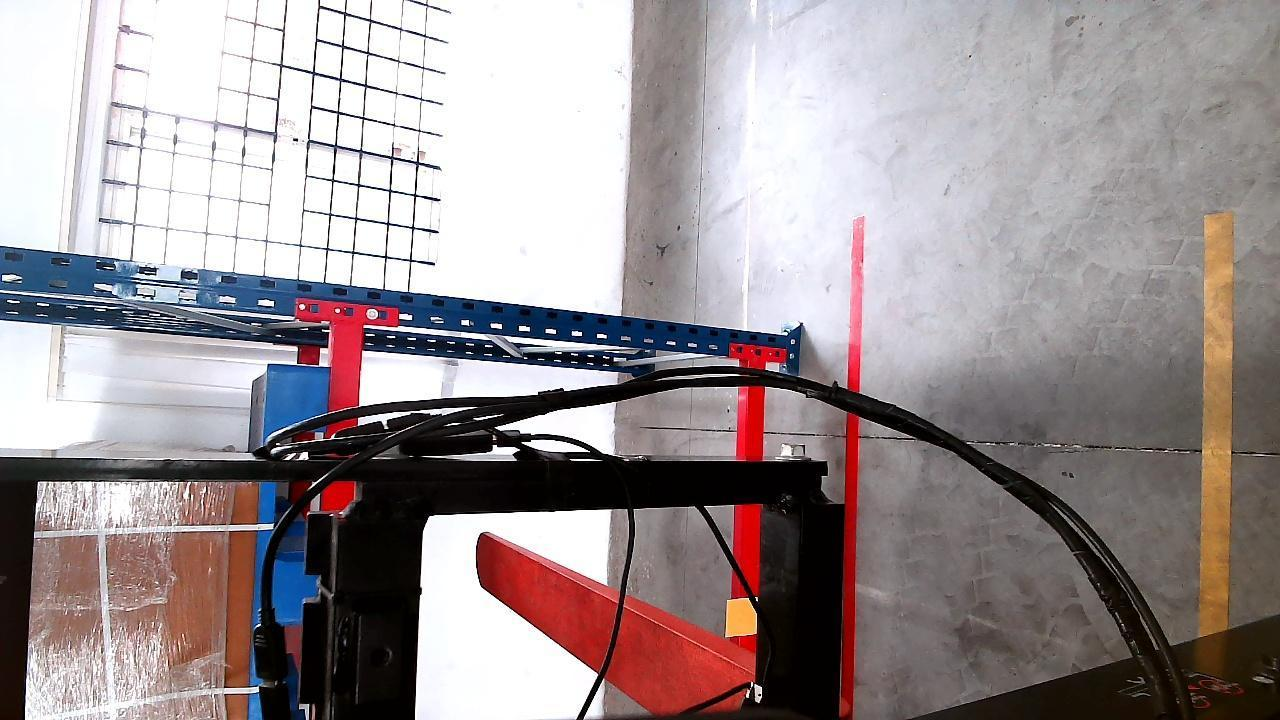h_rack: (732, 362, 764, 668)
orange_strip: (724, 595, 758, 635)
red_line: (840, 219, 867, 720)
small_pallet: (254, 363, 324, 691)
yellow_line: (1199, 203, 1236, 661)
